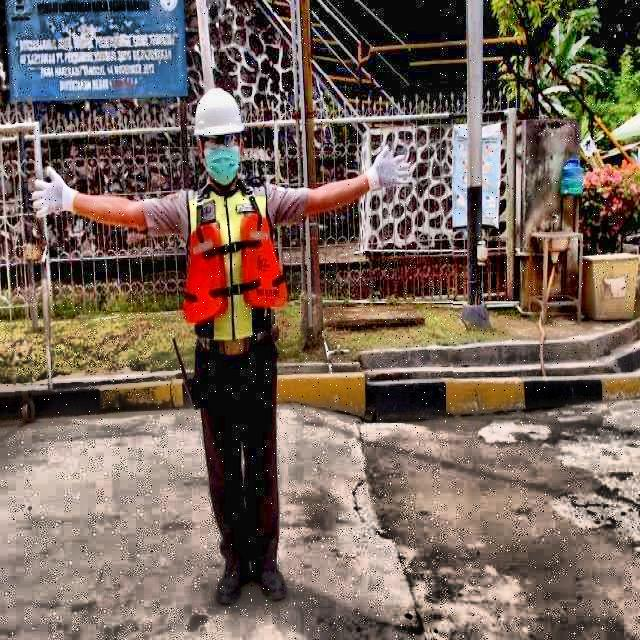safety_helmet: (184, 88, 238, 139)
safety_jacket: (186, 181, 287, 341)
